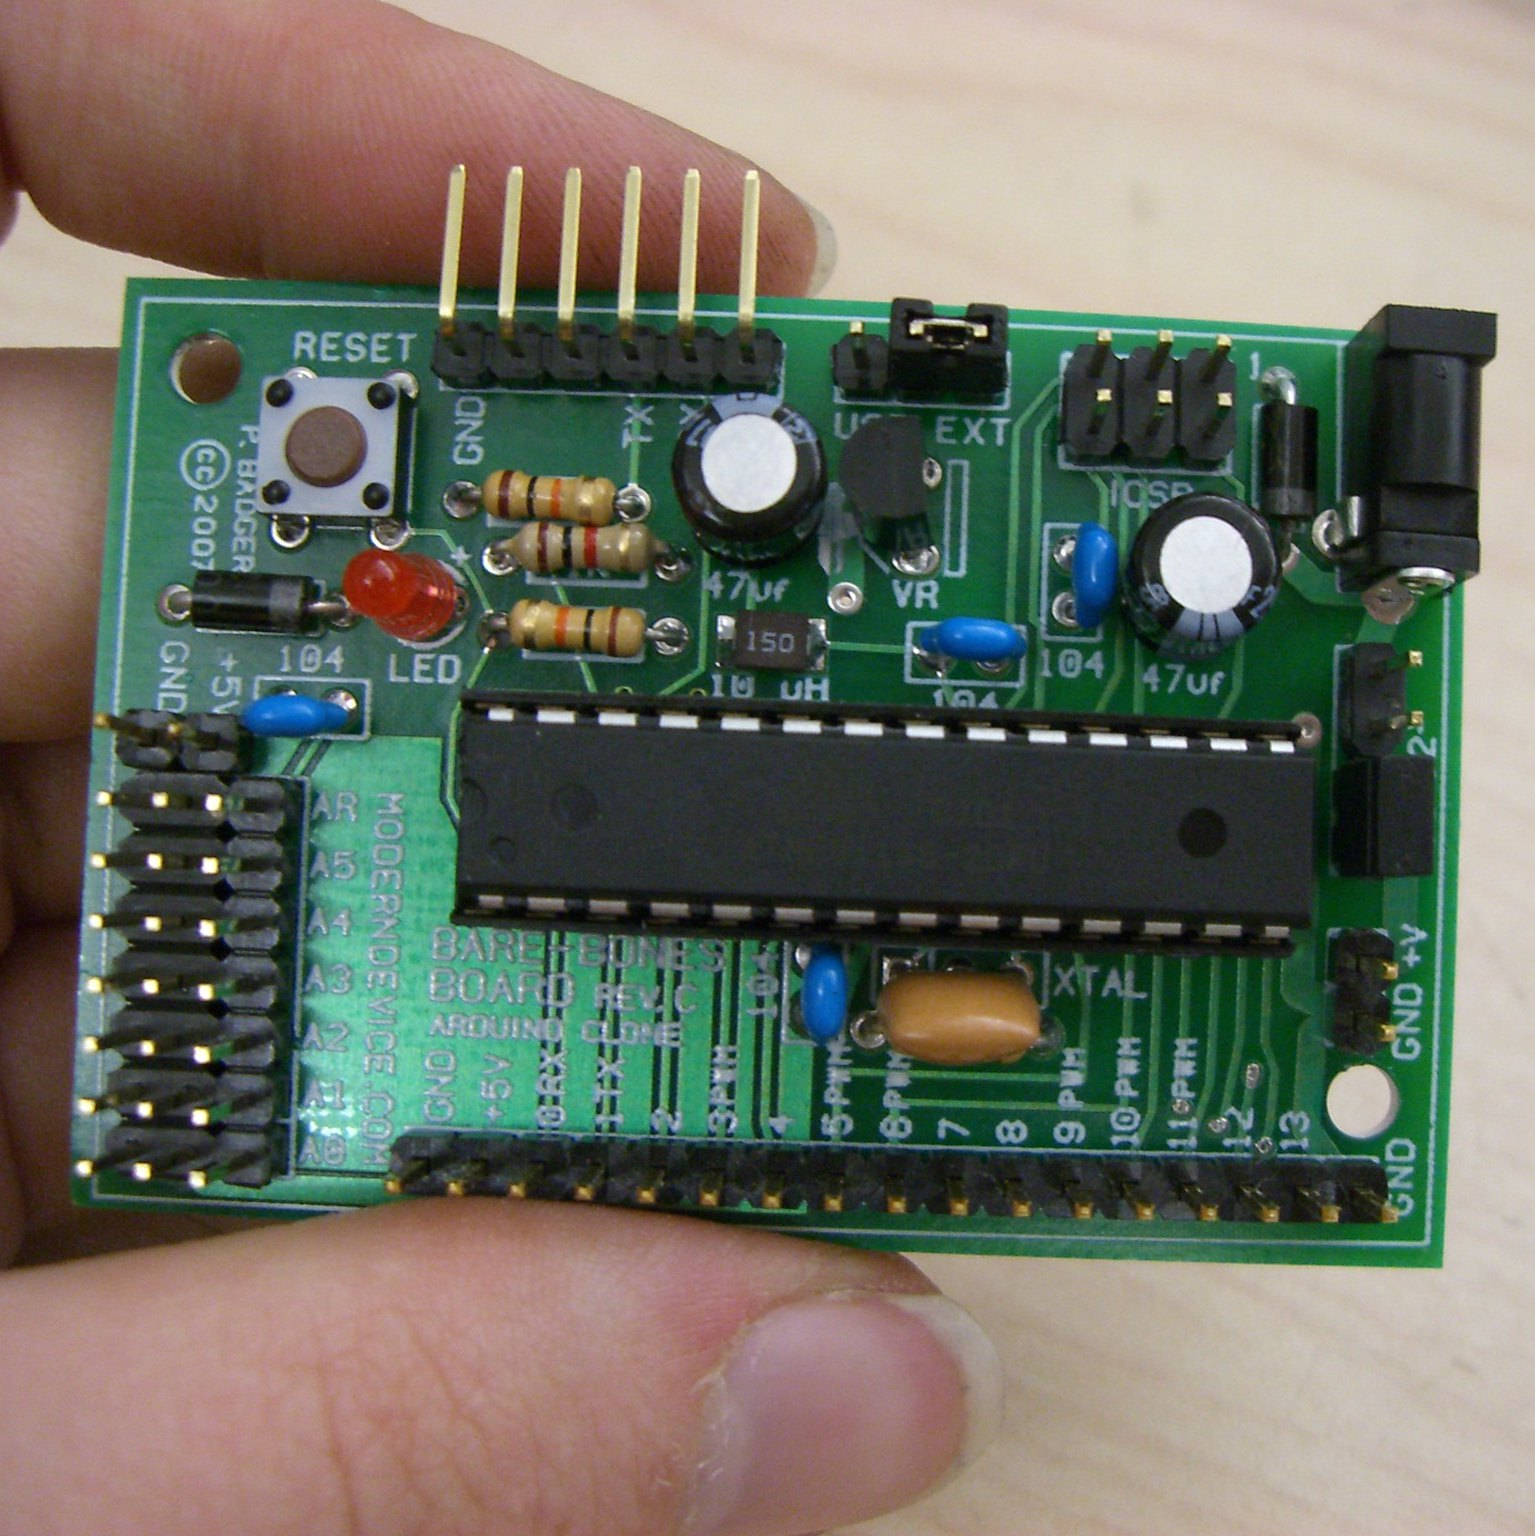Capacitor: (671, 391, 832, 569), (1118, 493, 1282, 653)
Diode: (181, 566, 332, 637), (1252, 396, 1326, 531)
LED: (342, 545, 474, 641)
Resistor: (498, 596, 663, 660), (468, 460, 626, 526), (499, 517, 668, 576)
